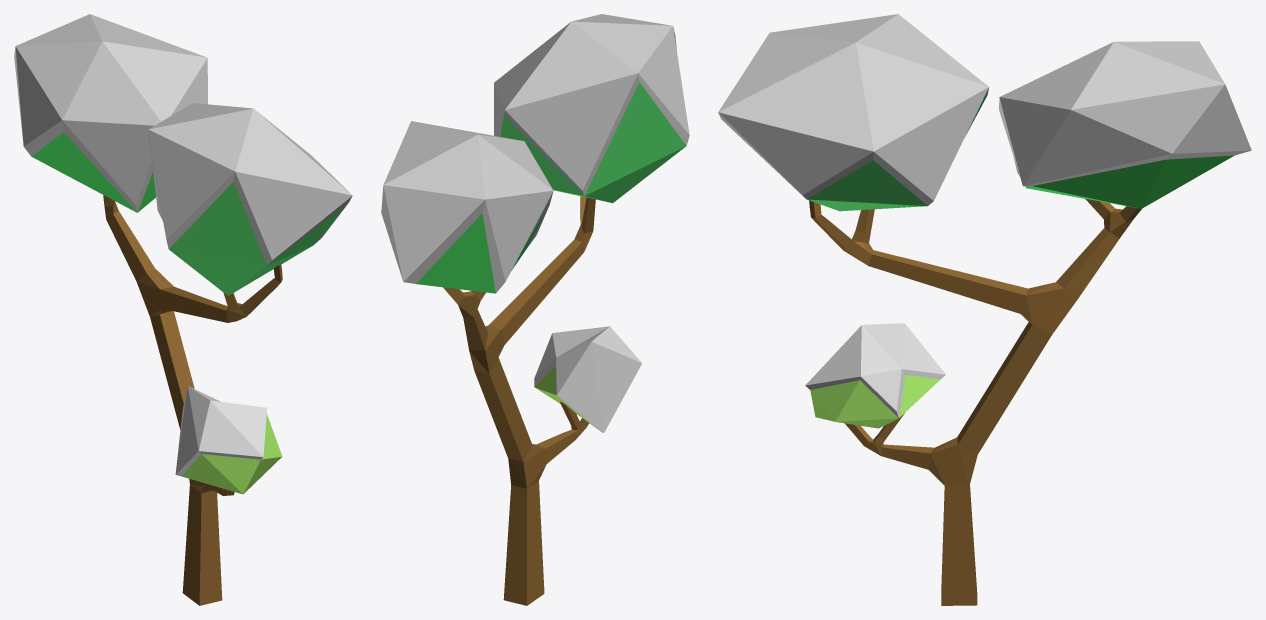
File: nice_tree_with_snow2.fbx
3 views of the same model, side by side, from view 1: azimuth 30°, elevation 25°; view 2: azimuth 150°, elevation 25°; view 3: azimuth 270°, elevation 25° (orthographic). The views are drawn at different scales.
Parts seen in each view (by area): view 1: Icosphere.001, Icosphere, Cube, Icosphere.002; view 2: Icosphere.001, Icosphere, Cube, Icosphere.002; view 3: Icosphere.001, Icosphere, Cube, Icosphere.002.
Boxes of the visible parts, x1=… form: Icosphere.001: x1=148, y1=103, x2=352, y2=295; Icosphere: x1=14, y1=14, x2=207, y2=212; Cube: x1=103, y1=195, x2=282, y2=605; Icosphere.002: x1=175, y1=386, x2=282, y2=494; Icosphere.001: x1=494, y1=14, x2=689, y2=203; Icosphere: x1=381, y1=121, x2=553, y2=293; Cube: x1=443, y1=196, x2=595, y2=605; Icosphere.002: x1=534, y1=326, x2=642, y2=432; Icosphere.001: x1=718, y1=14, x2=988, y2=211; Icosphere: x1=999, y1=41, x2=1251, y2=208; Cube: x1=809, y1=199, x2=1141, y2=605; Icosphere.002: x1=805, y1=323, x2=945, y2=428.
Size of the model in its own units: 8.67 by 25.83 by 22.36.
